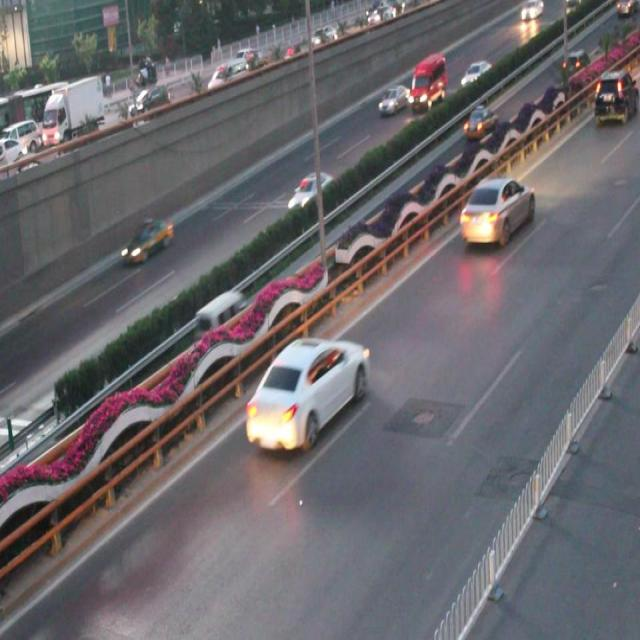car: (244, 337, 368, 448), (460, 175, 533, 245), (119, 220, 174, 264), (286, 171, 333, 209), (462, 106, 499, 142), (377, 84, 409, 115)
truck: (193, 290, 246, 340), (407, 55, 447, 112)
